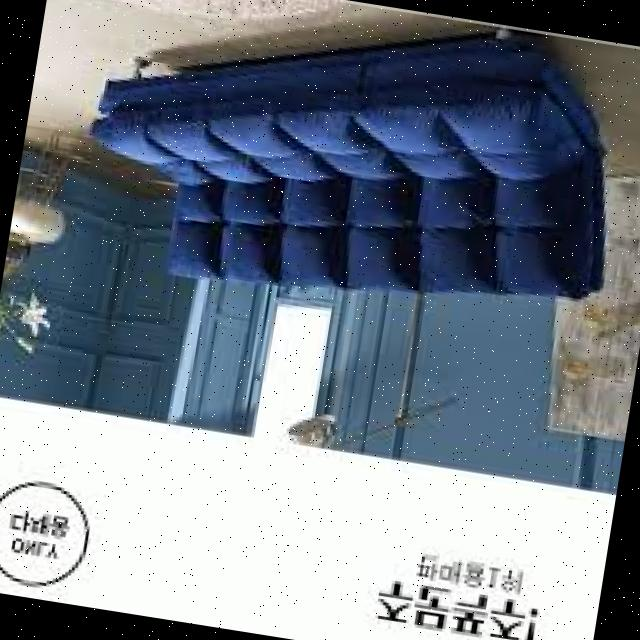Sofa: (26, 0, 640, 376)
